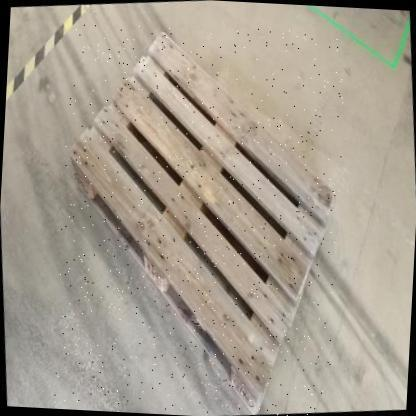pallet: (72, 30, 333, 416)
